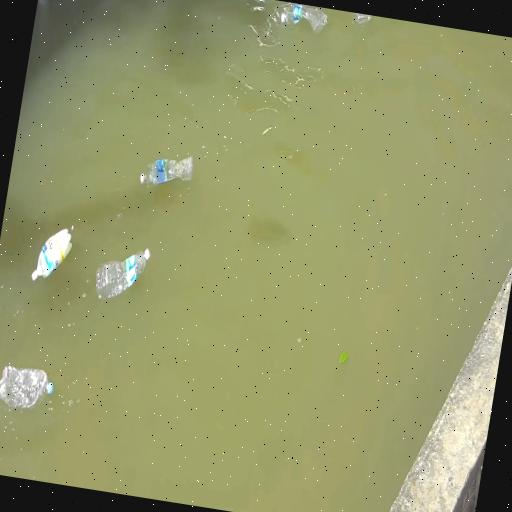plastic: (96, 249, 150, 298), (0, 366, 53, 409), (32, 229, 72, 280), (140, 157, 193, 186), (280, 5, 327, 33)
